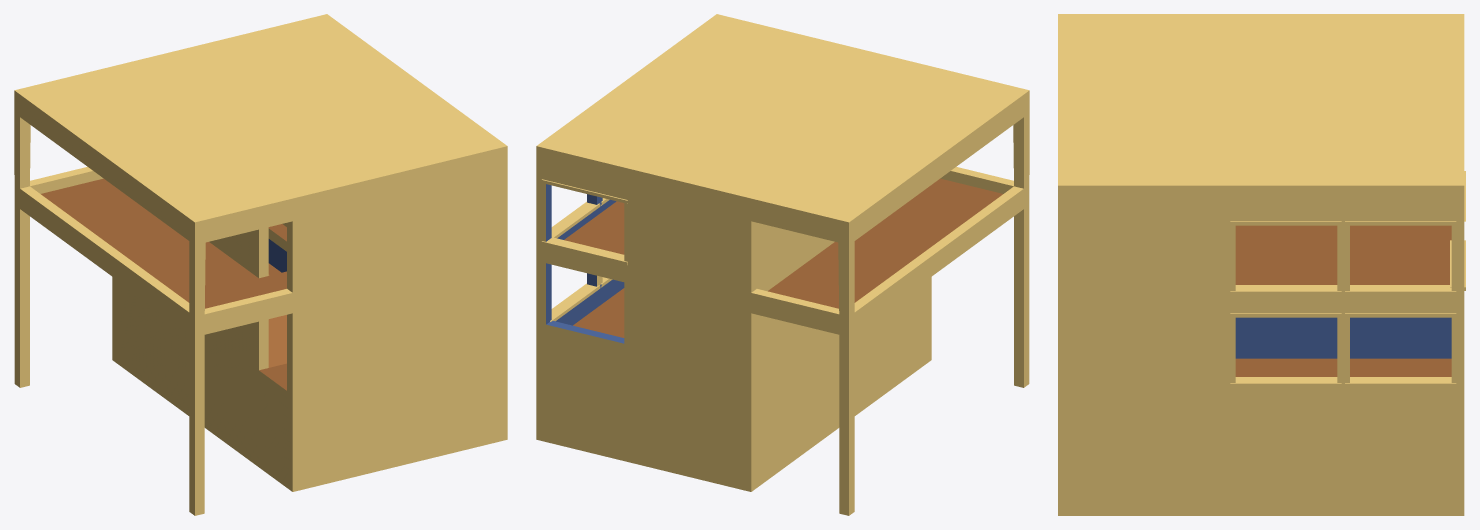
File: house_2.fbx
3 renders of one model, left to right at view 1: azimuth 30°, elevation 25°; view 2: azimuth 150°, elevation 25°; view 3: azimuth 270°, elevation 25°, orthographic. The views are drawn at different scales.
Visible parts, largest first — view 1: Cube; view 2: Cube; view 3: Cube.
Boxes of the visible parts, <box> form: Cube: <box>14,14,507,515</box>; Cube: <box>536,14,1029,515</box>; Cube: <box>1058,14,1465,515</box>.
Size of the model in its own units: 1444 by 1290 by 1444.
